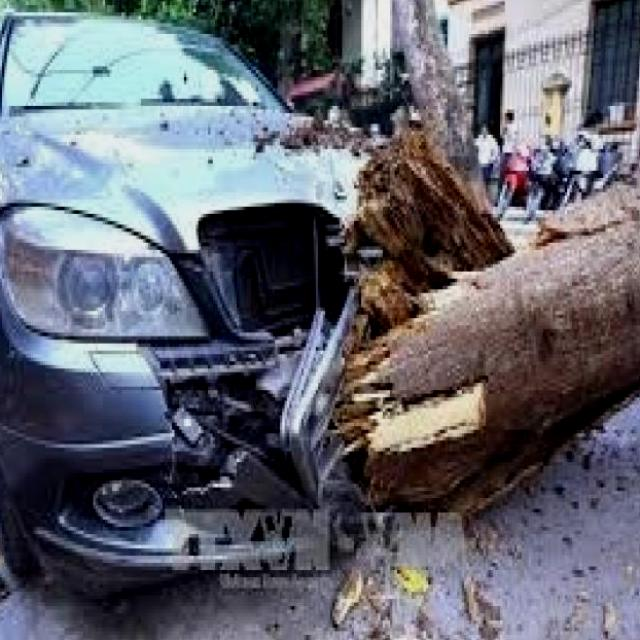fallen_object: (222, 59, 640, 577)
